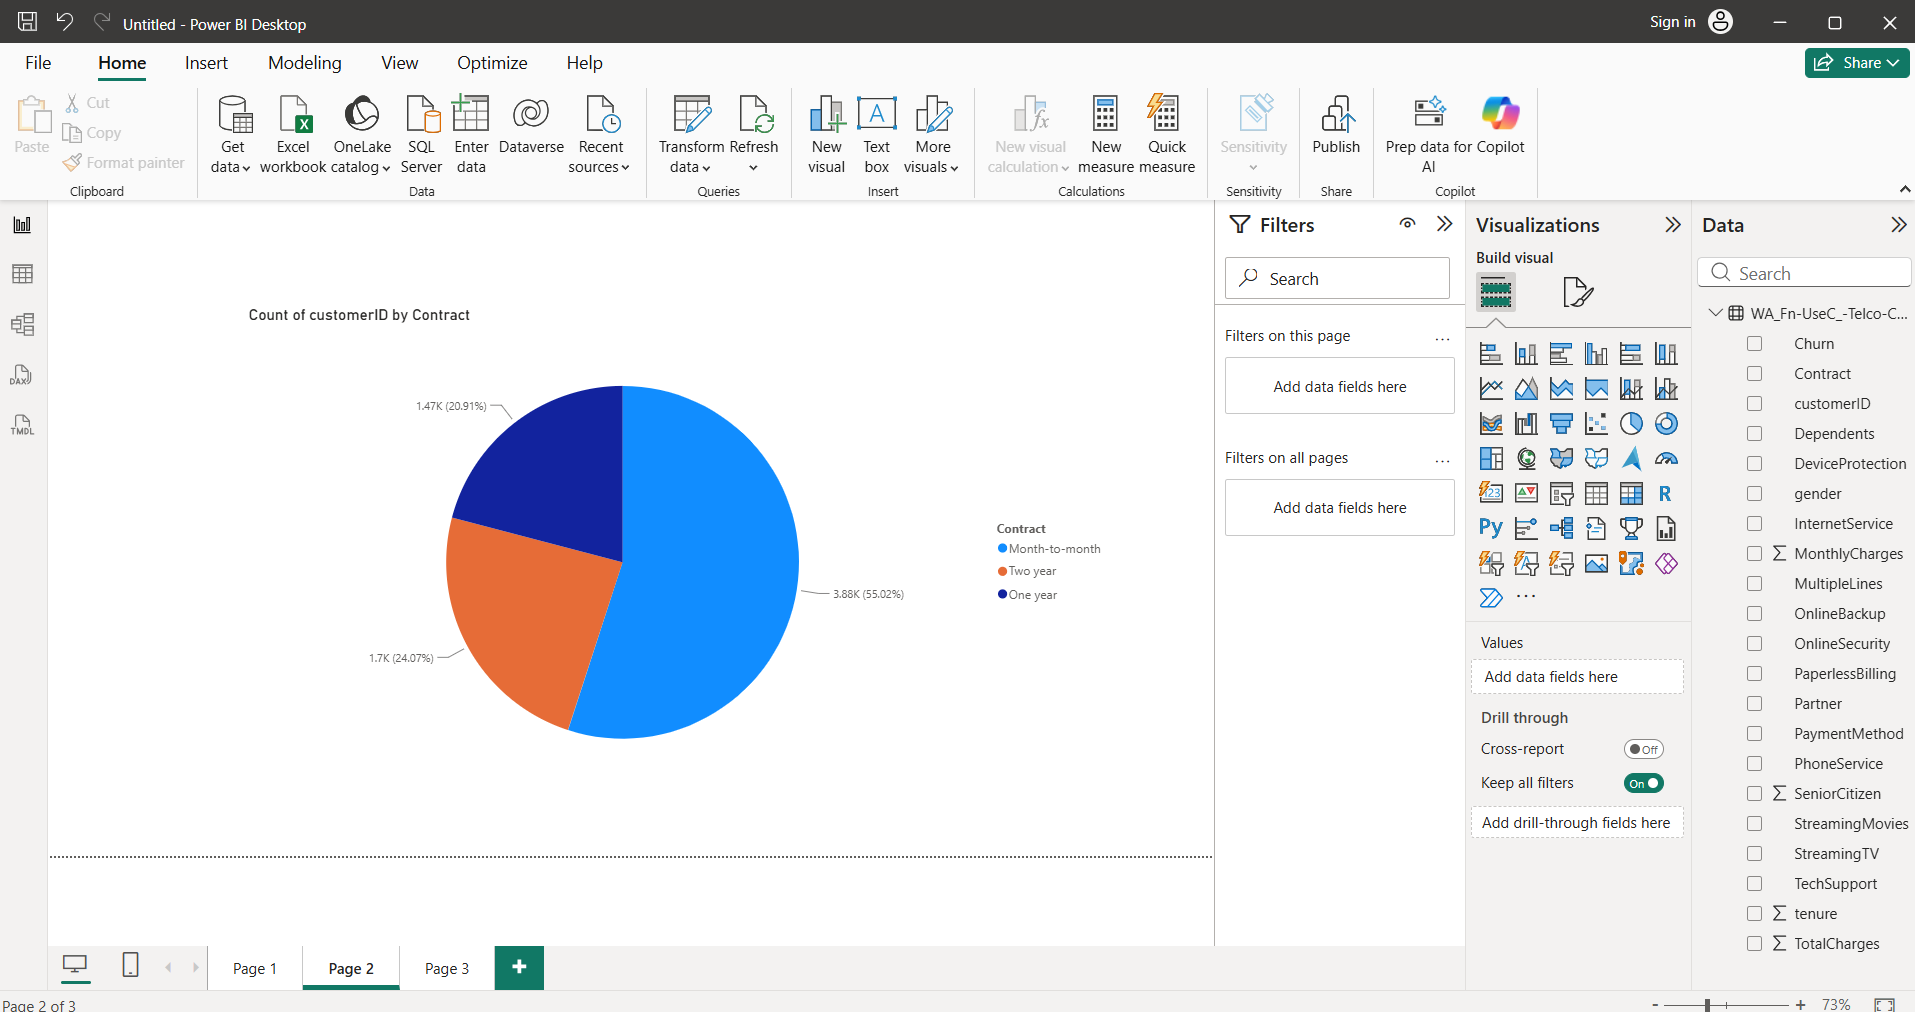

The dashboard page shown, as its layout file describes it:
{"tool":"powerbi","page":{"name":"Page 2","canvas":[1280,720],"ordinal":1},"visuals":[{"type":"pieChart","fields":{"Category":["WA_Fn-UseC_-Telco-Customer-Churn.Contract"],"Y":["CountNonNull(WA_Fn-UseC_-Telco-Customer-Churn.customerID)"]},"box":[215.4,115.3,955.1,546.1],"z":0}]}

Visuals, with their boxes on the page's 1280x720 design canvas (x1, y1, x2, y2). These are canvas units, not pixel positions in the 1915x1012 screenshot, which may show the page scaled, cropped or inside an application window:
pieChart - WA_Fn-UseC_-Telco-Customer-Churn.Contract x CountNonNull(WA_Fn-UseC_-Telco-Customer-Churn.customerID): {"left": 215, "top": 115, "right": 1170, "bottom": 661}
